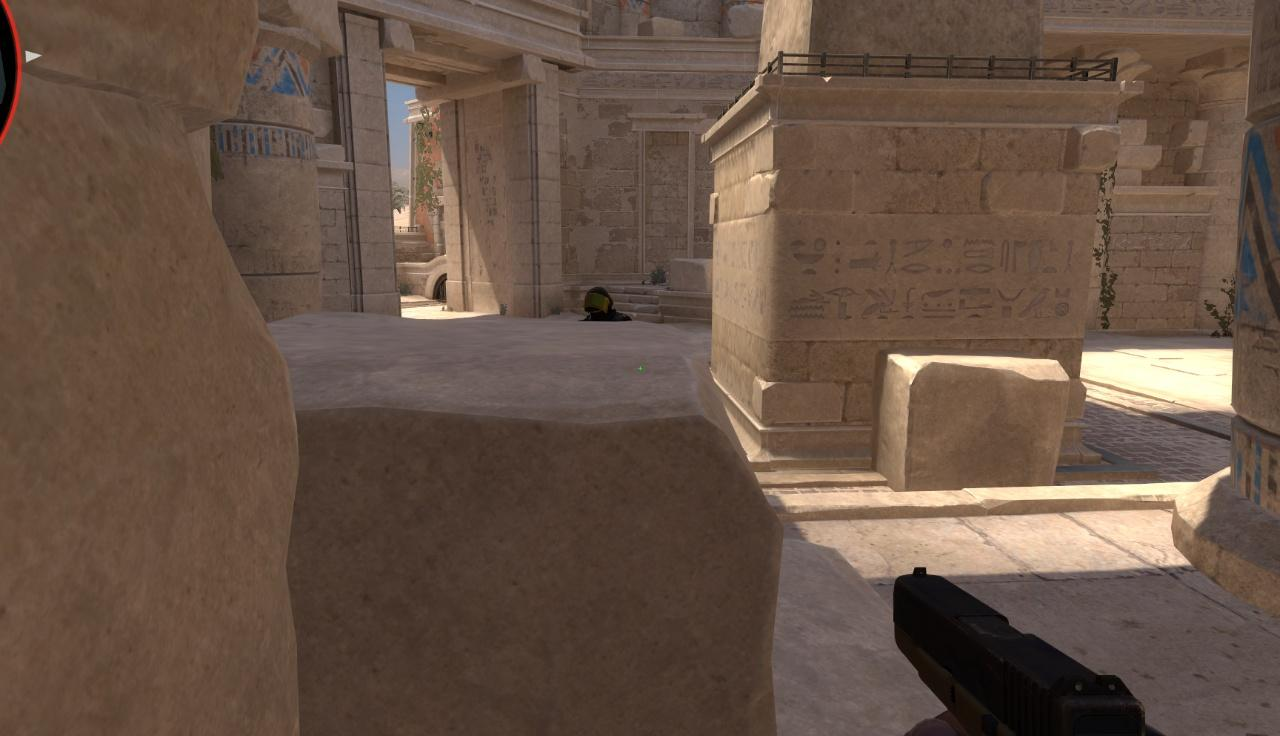cthead: (584, 287, 613, 317)
pistol: (893, 569, 1151, 736)
